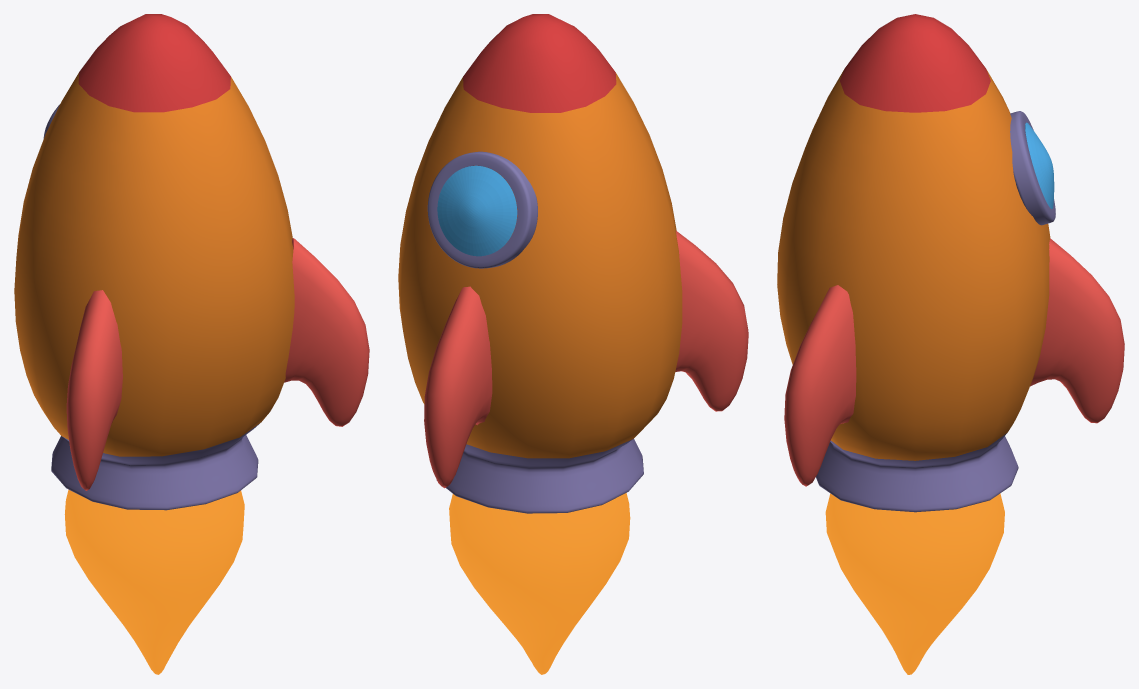
The model's file is asset.glb.
3 views of the same model, side by side, from view 1: azimuth 30°, elevation 25°; view 2: azimuth 150°, elevation 25°; view 3: azimuth 270°, elevation 25° (orthographic).
Parts seen in each view (by area): view 1: Cohete, Fuego, Aleta2; view 2: Cohete, Fuego, Aleta2, Cristal, Marco cristal; view 3: Cohete, Aleta2, Fuego, Marco cristal, Cristal.
Boxes of the visible parts, x1,y1,x2,y2 form: Cohete: (14,14,294,510); Fuego: (64,489,244,674); Aleta2: (66,238,369,490); Cohete: (398,14,682,513); Fuego: (449,493,630,674); Aleta2: (424,231,748,488); Cristal: (437,165,517,256); Marco cristal: (427,151,537,268); Cohete: (777,14,1050,512); Aleta2: (784,238,1124,486); Fuego: (825,493,1004,674); Marco cristal: (1010,111,1055,225); Cristal: (1025,122,1054,208).
Size of the model in its own units: 2.62 by 5.46 by 2.62.
